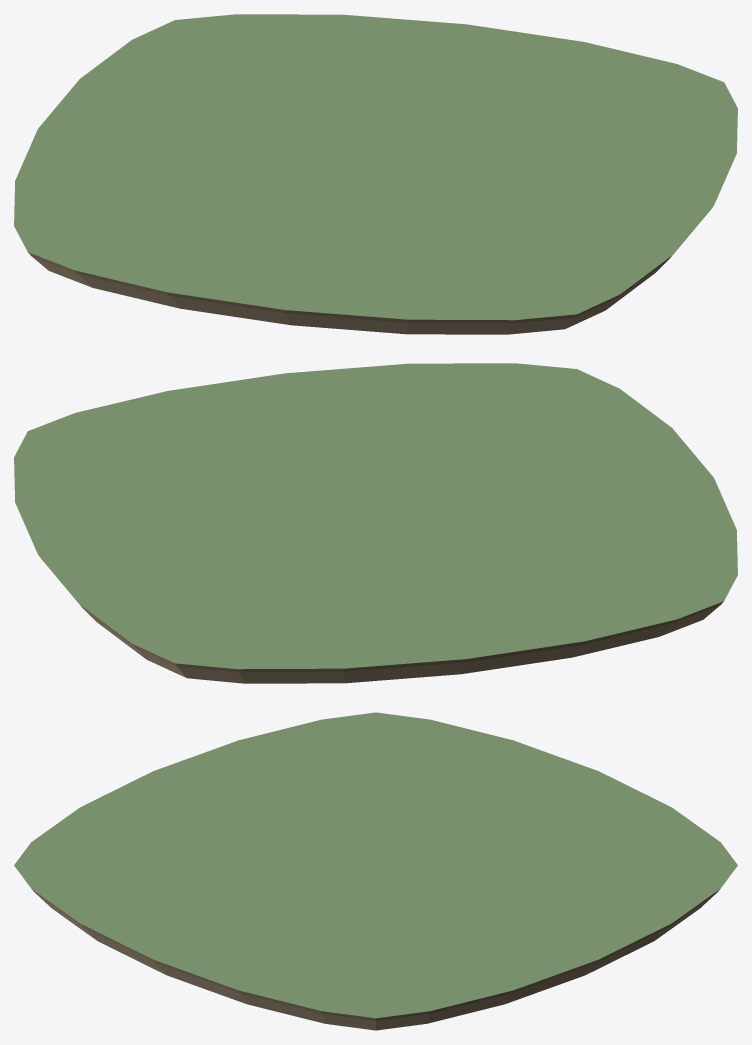
The model's file is Island_Pad_06.glb.
The picture shows the model from 3 angles, top to bottom: view 1: azimuth 30°, elevation 25°; view 2: azimuth 150°, elevation 25°; view 3: azimuth 270°, elevation 25°; orthographic projection. The views are drawn at different scales.
Visible parts, largest first — view 1: Island_Pad_06; view 2: Island_Pad_06; view 3: Island_Pad_06.
Boxes of the visible parts, x1=… form: Island_Pad_06: x1=14, y1=14, x2=737, y2=334; Island_Pad_06: x1=14, y1=363, x2=737, y2=683; Island_Pad_06: x1=14, y1=712, x2=737, y2=1030.
Size of the model in its own units: 92 by 3 by 92.
